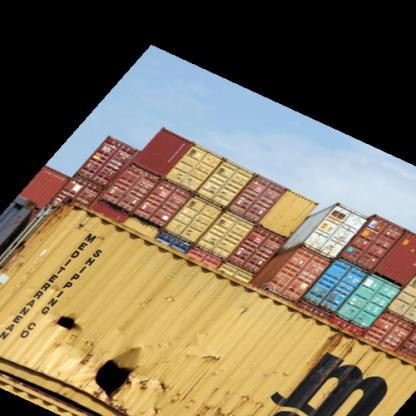Damage: (86, 355, 145, 410), (156, 386, 264, 413), (42, 310, 90, 344)
